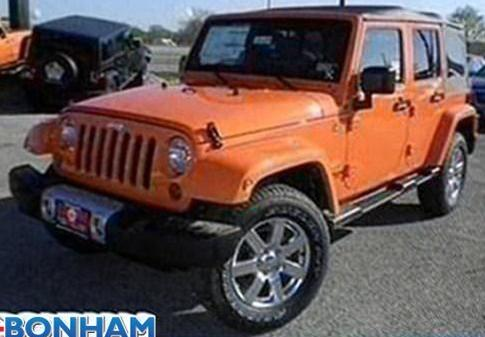front_view: (6, 98, 246, 271)
headlight: (155, 133, 198, 203)
side_glass: (351, 18, 460, 96)
